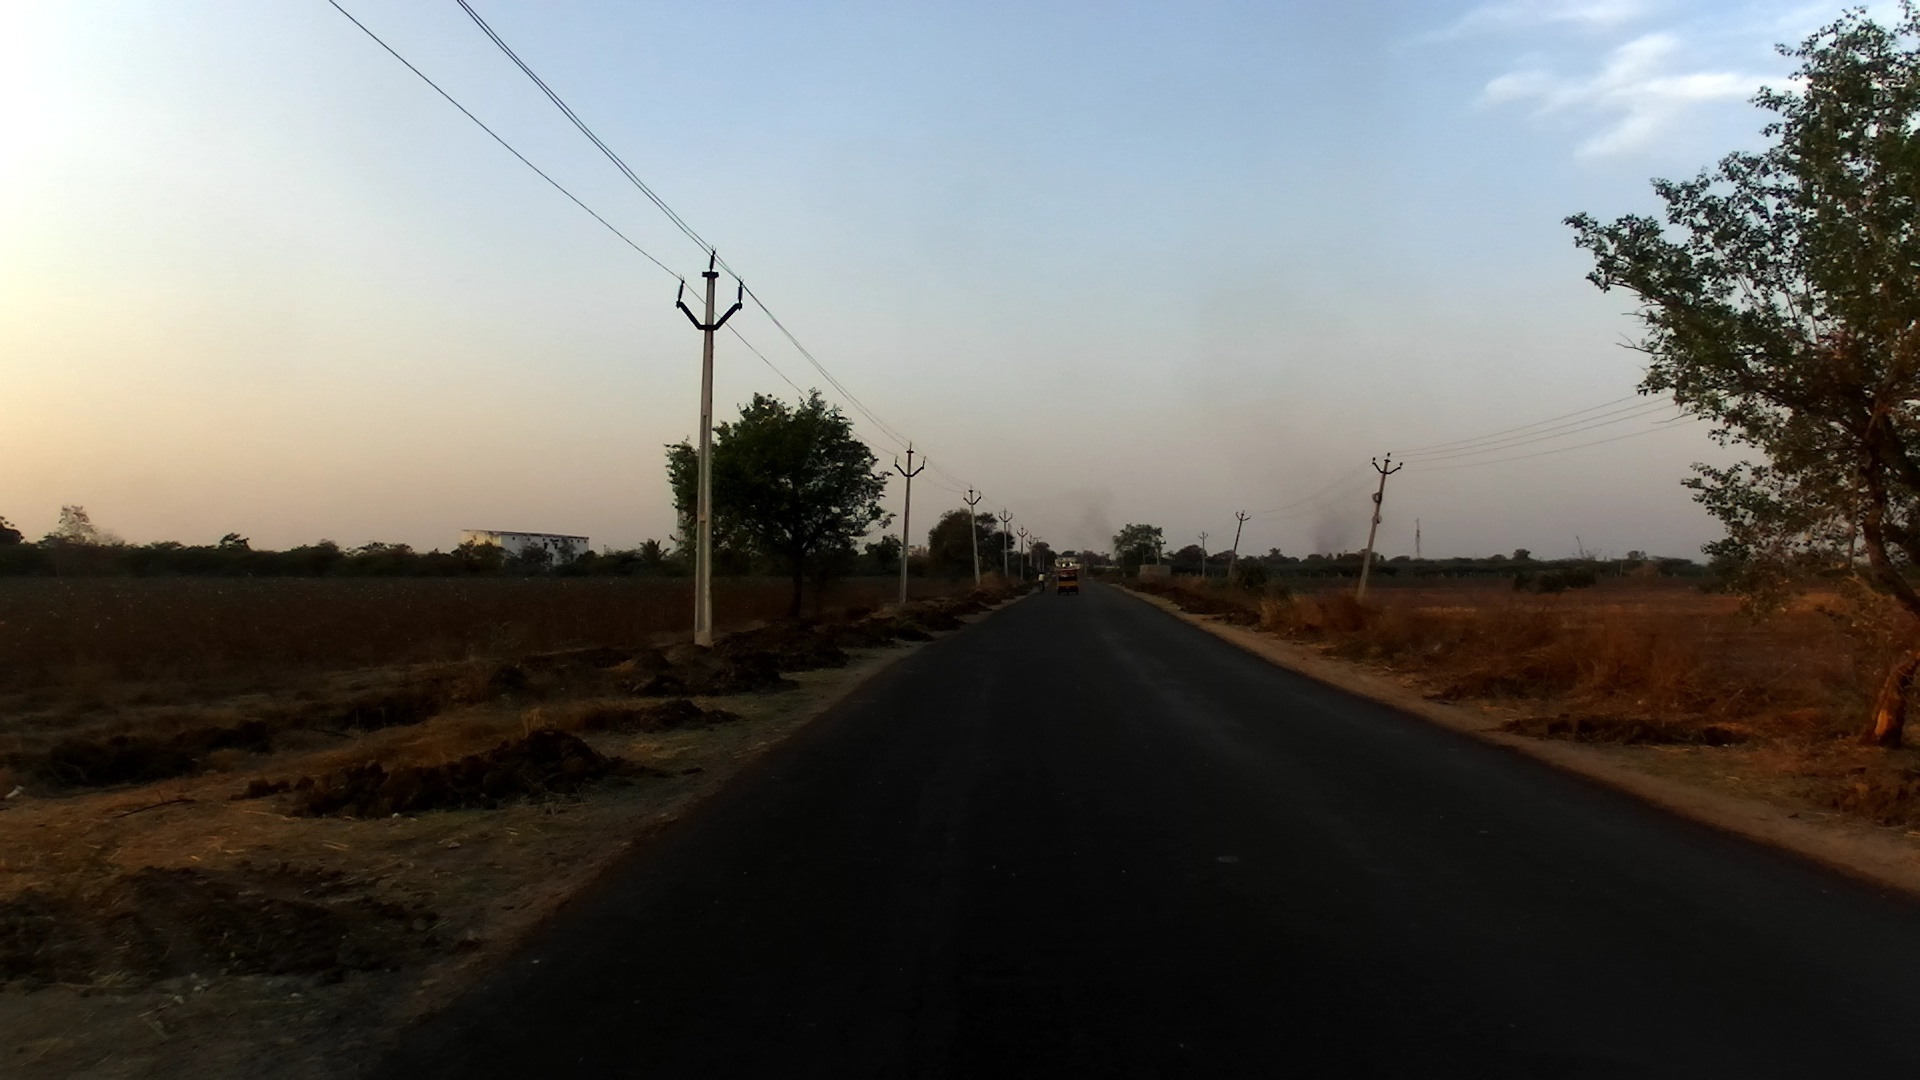autorickshaw: (1053, 562, 1083, 595)
bicycle: (1038, 579, 1047, 596)
rider: (1037, 571, 1047, 593)
